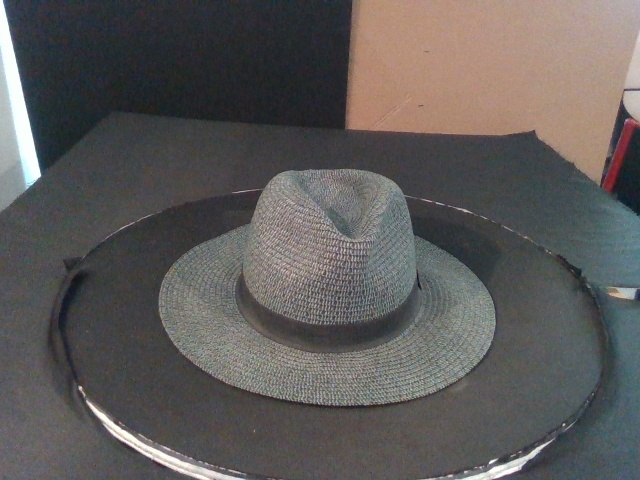hat: (157, 168, 497, 406)
